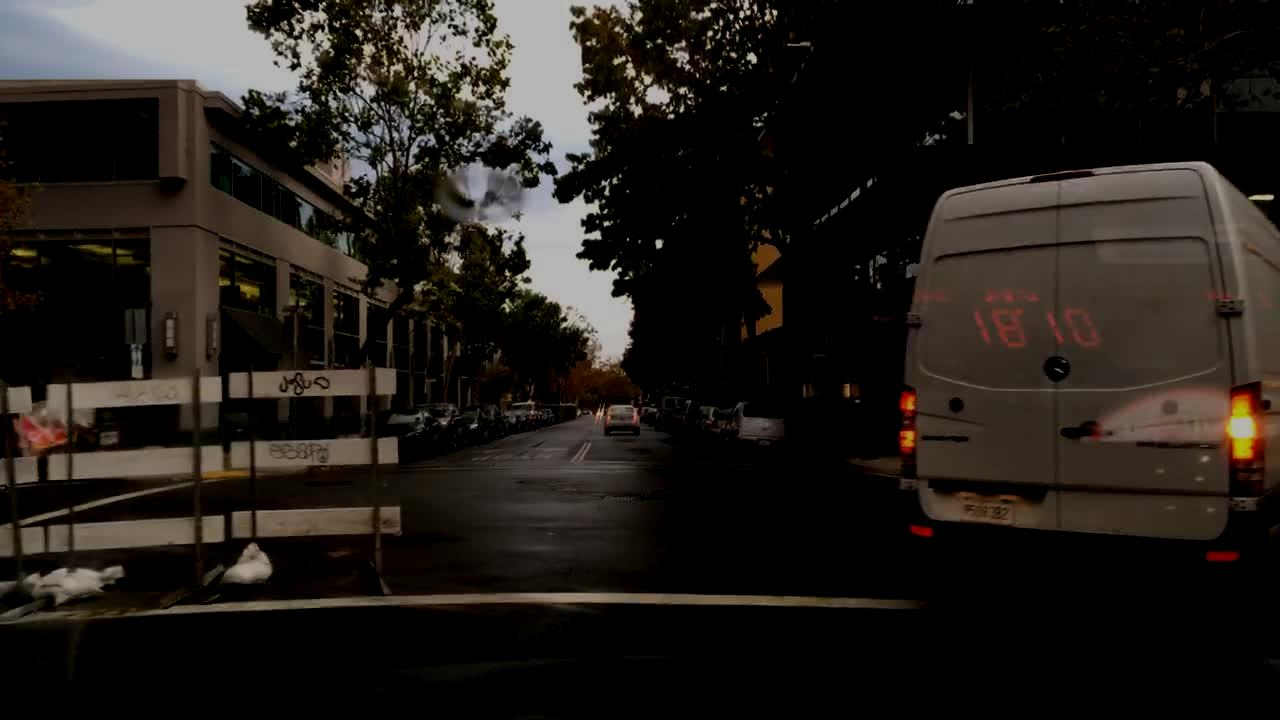Mercedes: (1042, 354, 1073, 384)
